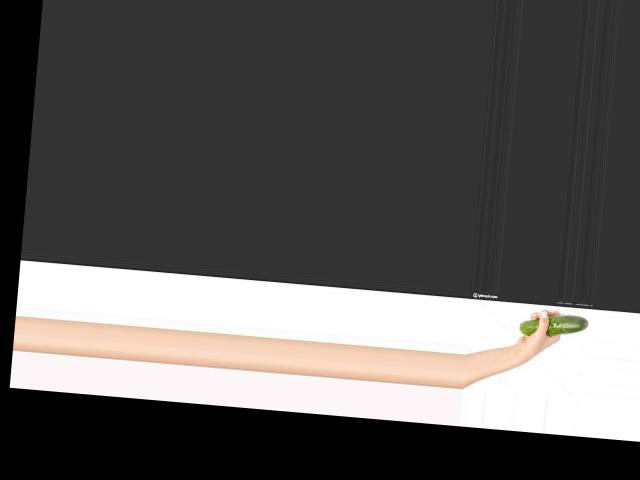cucumber: (520, 310, 589, 340)
